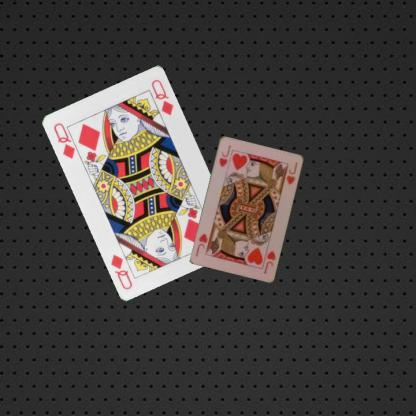Jh: (261, 248, 277, 275), (216, 142, 232, 168)
Qd: (51, 120, 83, 161)
